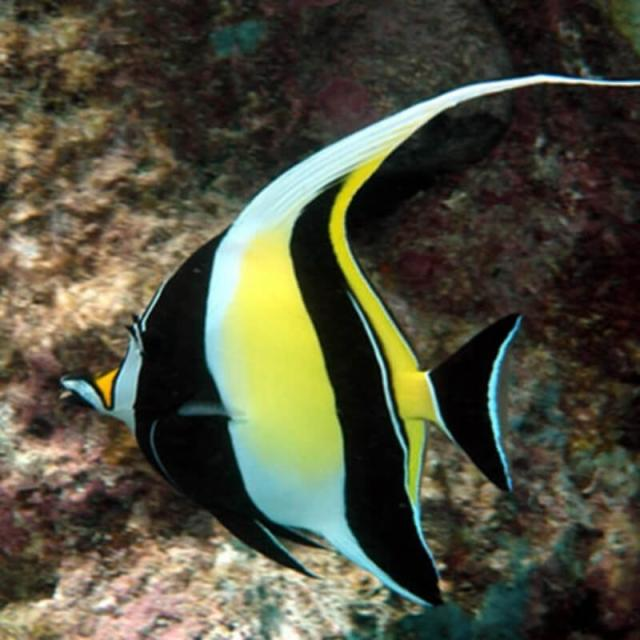MorishIdol: (55, 70, 639, 612)
